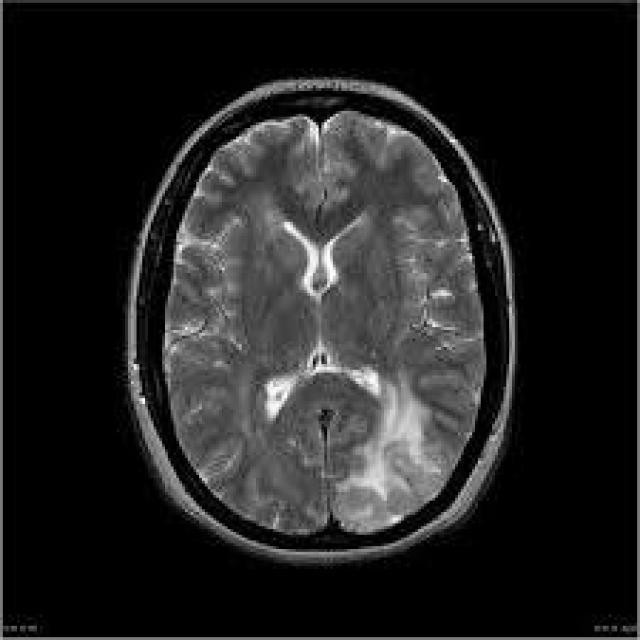notumor: (125, 80, 515, 563)
